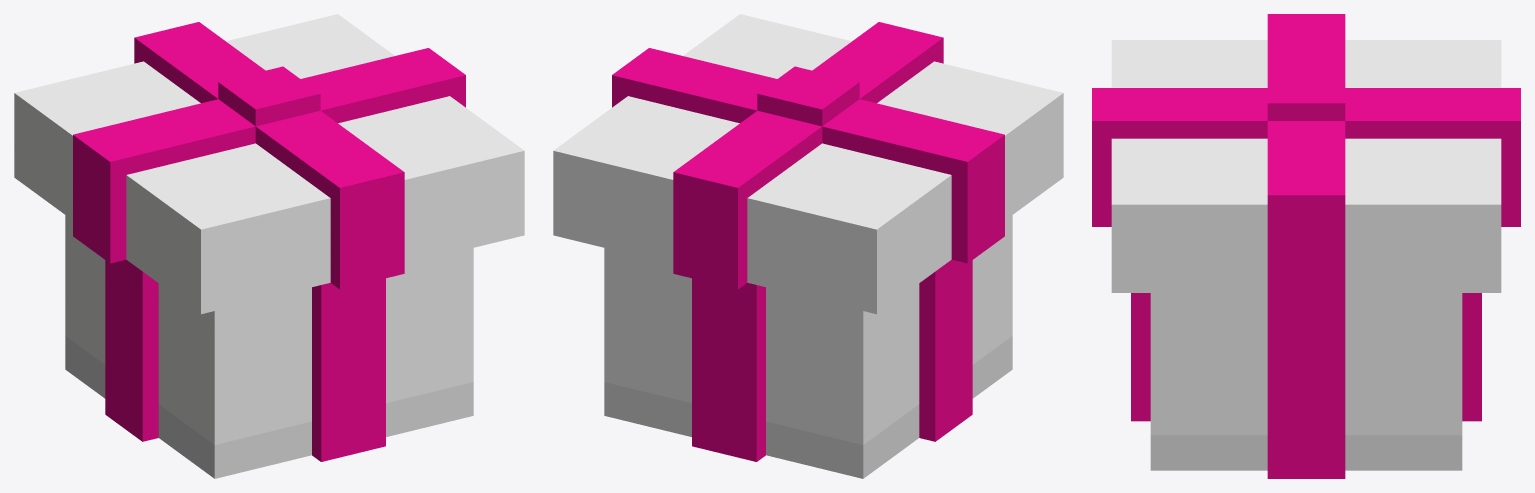
The model's file is present.glb.
3 views of the same model, side by side, from view 1: azimuth 30°, elevation 25°; view 2: azimuth 150°, elevation 25°; view 3: azimuth 270°, elevation 25° (orthographic). The views are drawn at different scales.
Visible parts, largest first — view 1: present.001, present; view 2: present.001, present; view 3: present.001, present.
Boxes of the visible parts, box(x1,y1,x2,y2) form: present.001: box(14, 14, 524, 314); present: box(65, 215, 473, 478); present.001: box(553, 14, 1063, 314); present: box(604, 215, 1012, 478); present.001: box(1092, 14, 1520, 301); present: box(1131, 293, 1481, 478).
Bounding box in the file's own units: 2.2 × 1.8 × 2.2.
2 materials, 1 textured.
